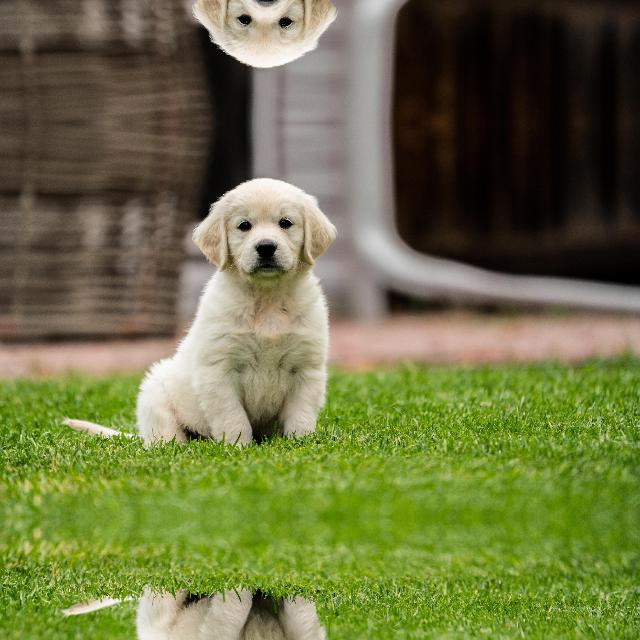dog: (125, 170, 332, 456), (124, 0, 331, 74), (124, 577, 331, 640)
